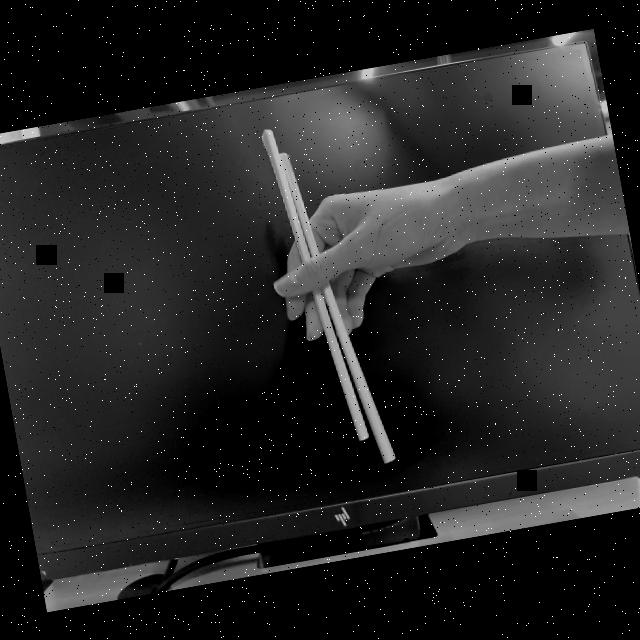stick: (244, 103, 462, 480)
